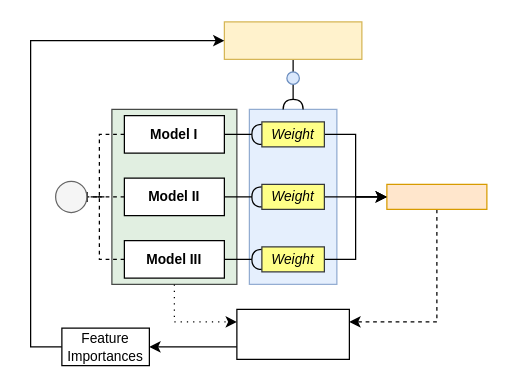
The diagram is 509 pixels wide and 388 high, and some of its shapes have lost their labels. The centre of each missing label's shape, as x and y in pixels:
Dynamic Model Weighting: point (292, 40)
LambdaMART algorithm: point (292, 333)
Ranking Score: point (436, 196)
